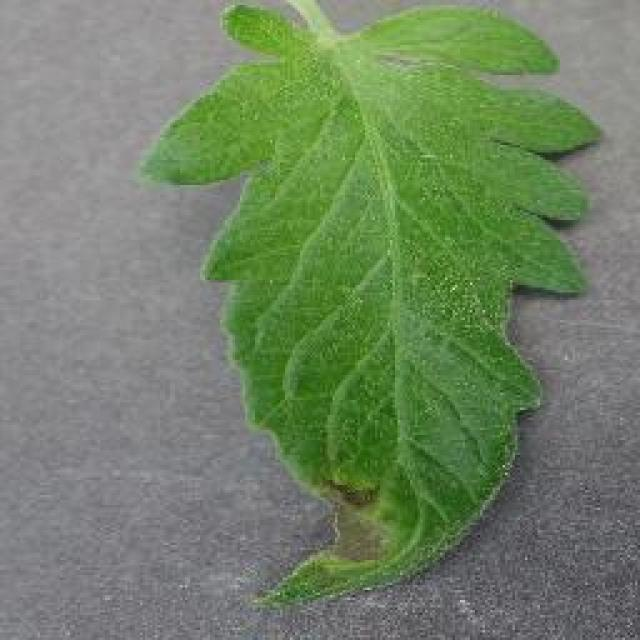Tomato late blight leaf: (136, 4, 592, 614)
